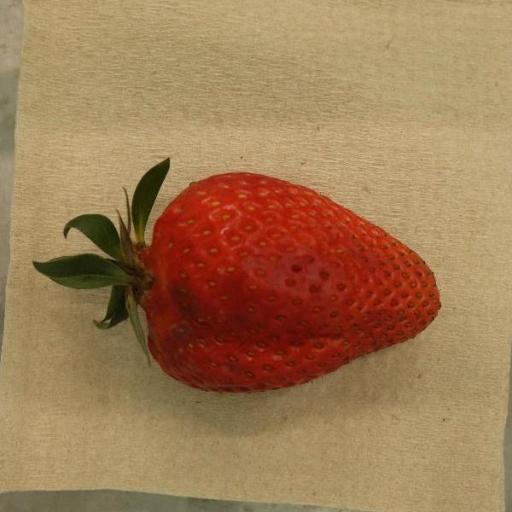Strawberry: (31, 158, 441, 394)
